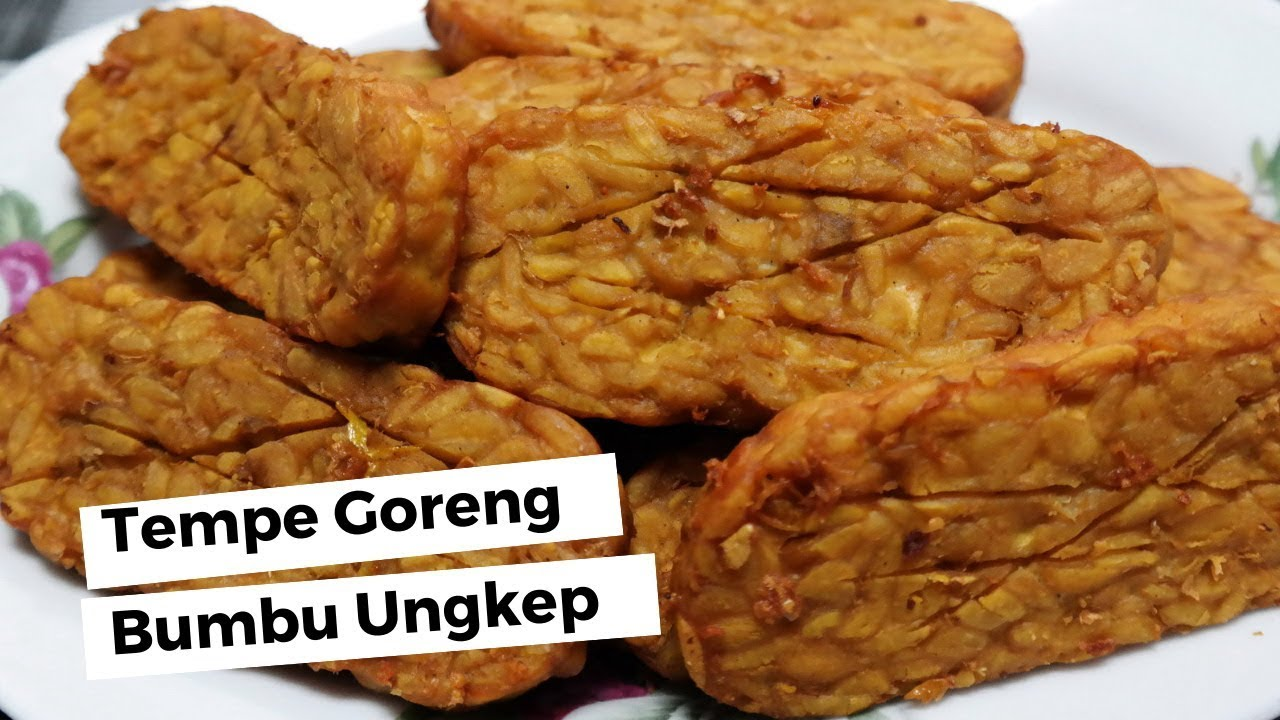Tempe: (658, 383, 1280, 675), (528, 119, 1129, 347), (49, 52, 460, 281), (19, 301, 404, 479)
